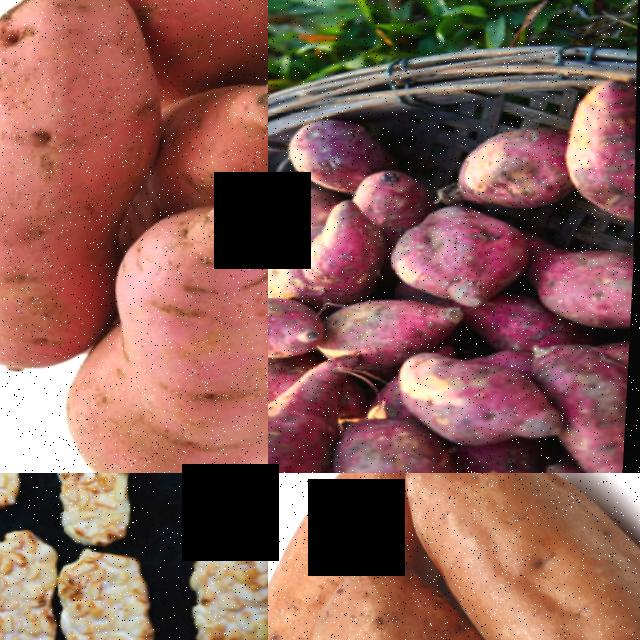sweet potato: (61, 185, 268, 473), (0, 0, 147, 377), (398, 347, 564, 445), (508, 518, 640, 640), (390, 203, 529, 304), (307, 538, 444, 640), (161, 78, 268, 187), (450, 120, 572, 206), (562, 78, 640, 212), (325, 295, 468, 359), (534, 240, 637, 325), (287, 115, 396, 178), (268, 398, 345, 473), (337, 436, 472, 473), (268, 290, 327, 357)
tempeh: (187, 480, 268, 640), (57, 544, 163, 640), (0, 524, 74, 640), (40, 473, 143, 543)
